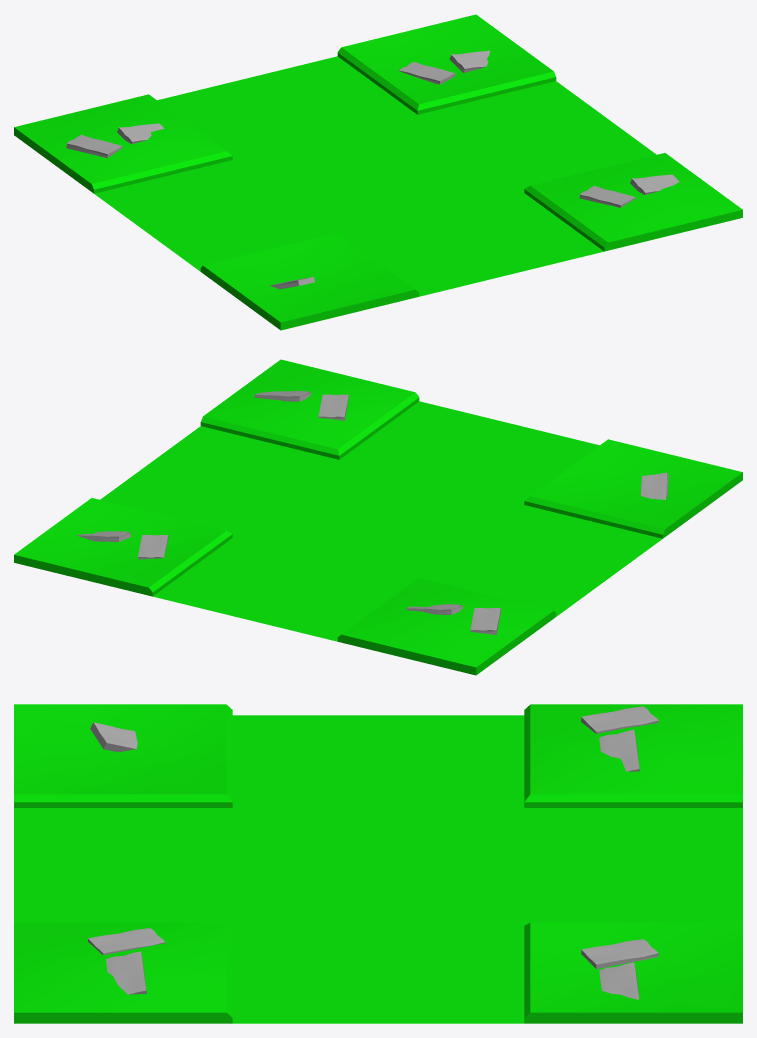
File: cross-tile.fbx
3 views of the same model, one above another, from view 1: azimuth 30°, elevation 25°; view 2: azimuth 150°, elevation 25°; view 3: azimuth 270°, elevation 25° (orthographic). The views are drawn at different scales.
Parts seen in each view (by area): view 1: cross_tile2; view 2: cross_tile2; view 3: cross_tile2.
Part boxes in pixels (x1,y1,x2,y2): cross_tile2: [14, 14, 742, 330]; cross_tile2: [14, 359, 742, 675]; cross_tile2: [14, 704, 742, 1023].
Size of the model in its own units: 1300 by 82.93 by 1300.
